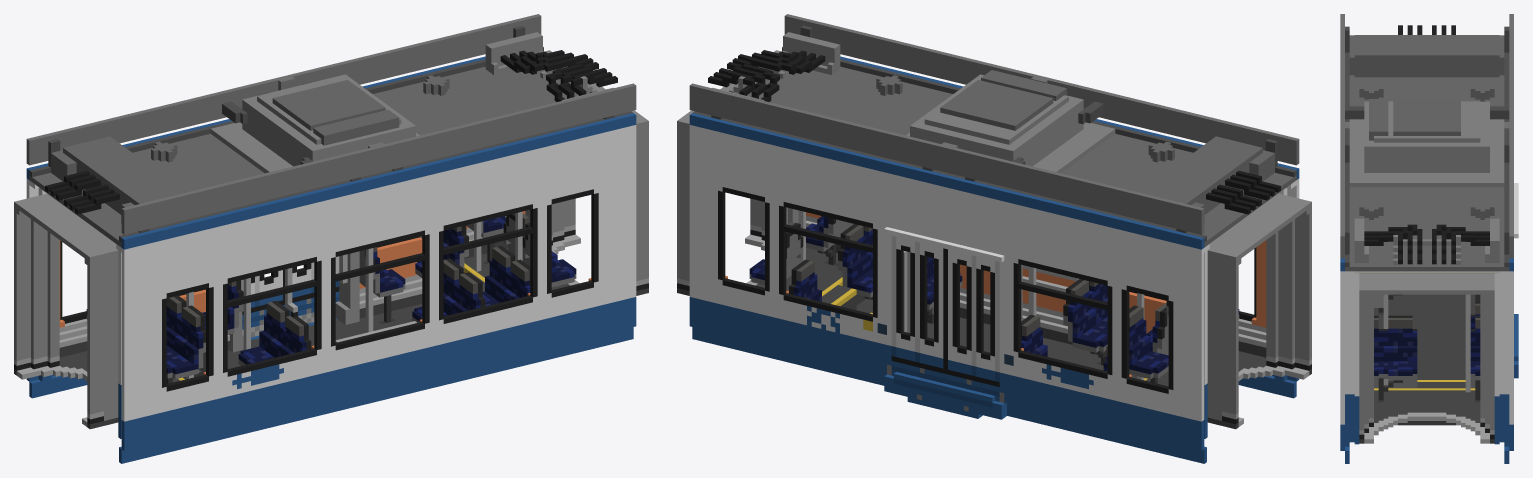
File: saenftemitte.obj
The picture shows the model from 3 angles, left to right: view 1: azimuth 30°, elevation 25°; view 2: azimuth 150°, elevation 25°; view 3: azimuth 270°, elevation 25°; orthographic projection. The views are drawn at different scales.
Visible parts, largest first — view 1: FRAME; view 2: FRAME; view 3: FRAME.
Part boxes in pixels (x1,y1,x2,y2): FRAME: [14, 14, 648, 463]; FRAME: [677, 14, 1311, 463]; FRAME: [1340, 14, 1518, 463].
Size of what is drawn, in the model's own units: 7.44 by 3.44 by 2.31.
1 material, 1 textured.
